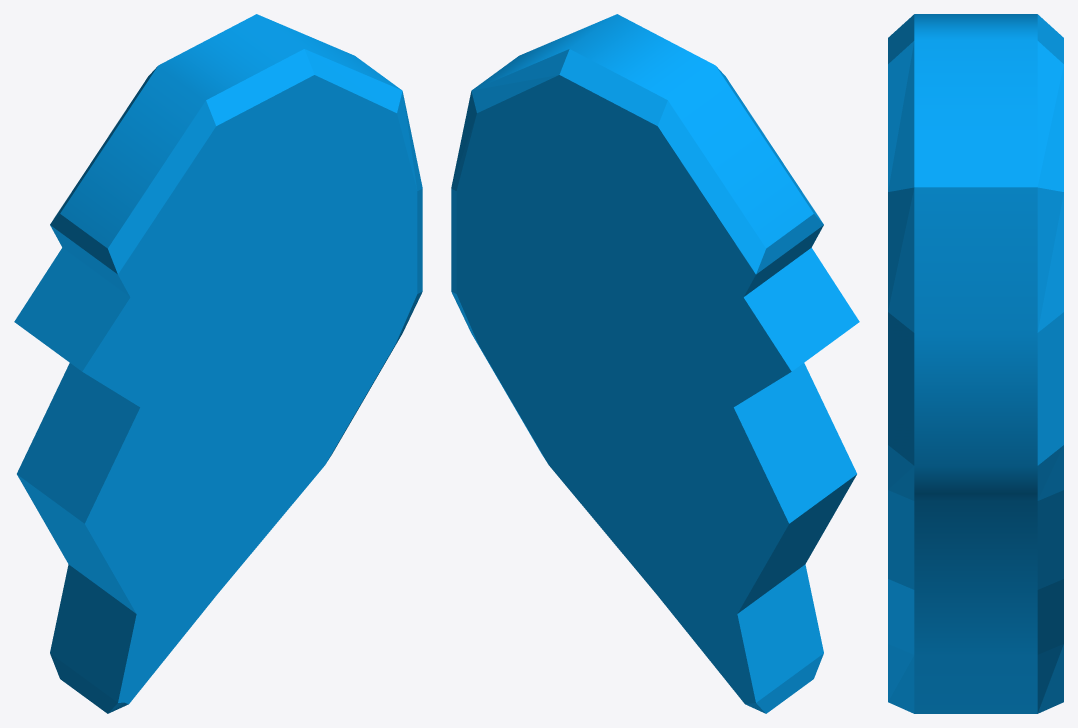
Rendered from BlueHeartRight.FBX.
The picture shows the model from 3 angles, left to right: view 1: azimuth 30°, elevation 25°; view 2: azimuth 150°, elevation 25°; view 3: azimuth 270°, elevation 25°; orthographic projection. The views are drawn at different scales.
Parts seen in each view (by area): view 1: HeartRightBlue; view 2: HeartRightBlue; view 3: HeartRightBlue.
Part boxes in pixels (x1,y1,x2,y2): HeartRightBlue: [14, 14, 422, 713]; HeartRightBlue: [451, 14, 859, 713]; HeartRightBlue: [888, 14, 1063, 713].
Bounding box in the file's own units: 0.1651 × 0.2776 × 0.0555.
